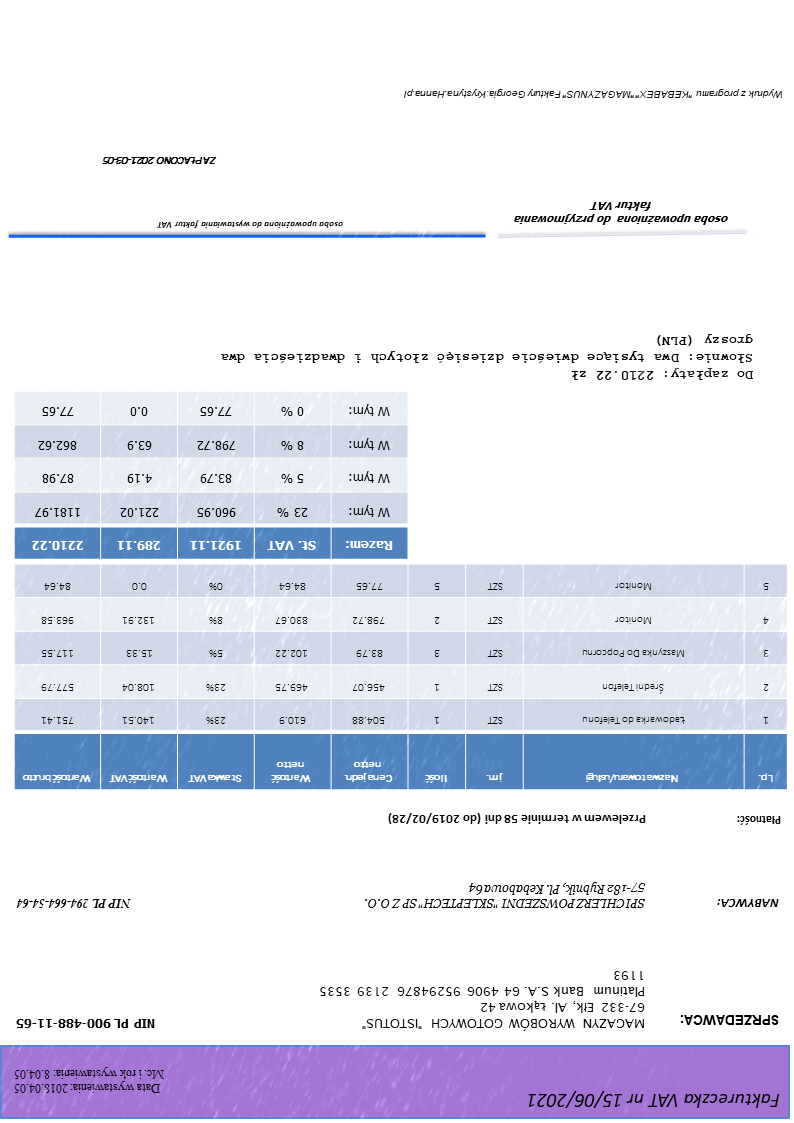Table: (13, 563, 789, 791), (13, 391, 409, 561)
TextBox: (217, 332, 756, 383), (317, 969, 648, 1034), (362, 880, 647, 912), (511, 198, 731, 229), (401, 87, 786, 103), (526, 1090, 782, 1111), (12, 1068, 166, 1098), (387, 812, 648, 826), (15, 1015, 159, 1032), (155, 219, 346, 231), (678, 1011, 782, 1031), (16, 895, 133, 912), (102, 153, 219, 169), (715, 896, 782, 911), (735, 812, 783, 829)
